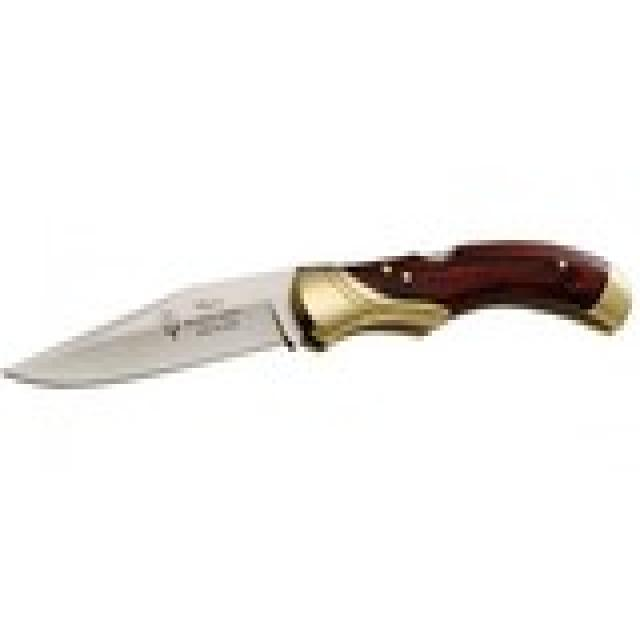Knife: (3, 222, 635, 411)
